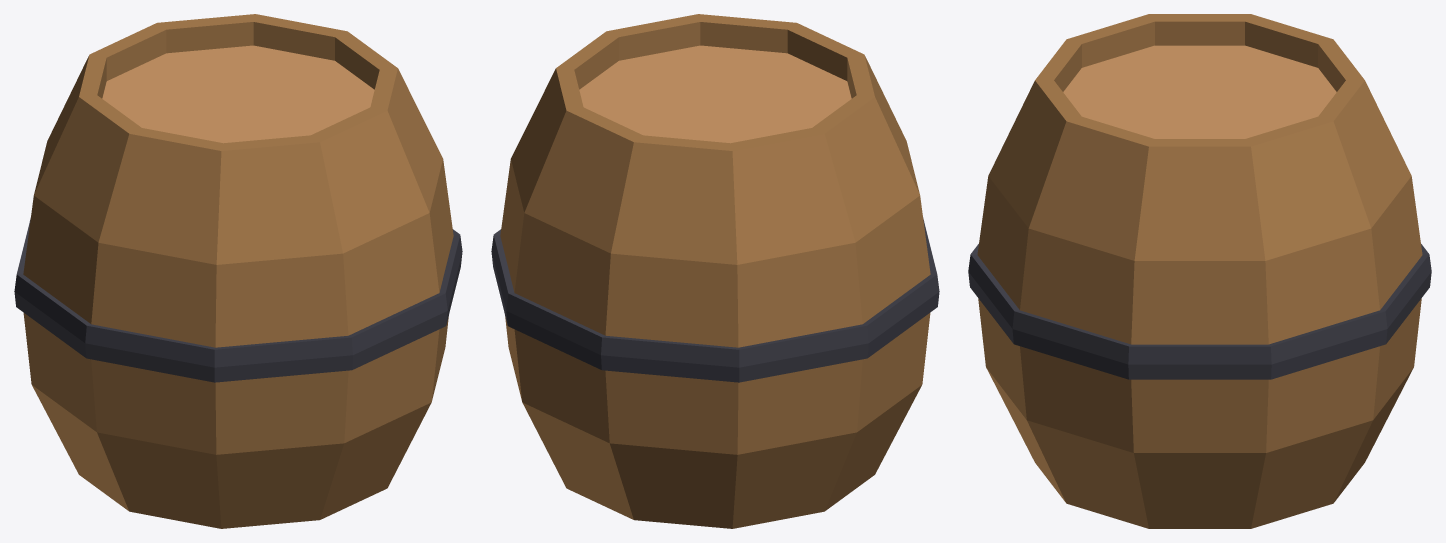
Rendered from Vooden_Barrel.fbx.
3 views of the same model, side by side, from view 1: azimuth 30°, elevation 25°; view 2: azimuth 150°, elevation 25°; view 3: azimuth 270°, elevation 25° (orthographic).
Parts seen in each view (by area): view 1: Vooden_Barrel; view 2: Vooden_Barrel; view 3: Vooden_Barrel.
Boxes of the visible parts, left/top/right/bottom form: Vooden_Barrel: left=14, top=14, right=462, bottom=528; Vooden_Barrel: left=491, top=14, right=939, bottom=528; Vooden_Barrel: left=968, top=14, right=1431, bottom=528.
Size of the model in its own units: 71.19 by 68.13 by 74.86.
